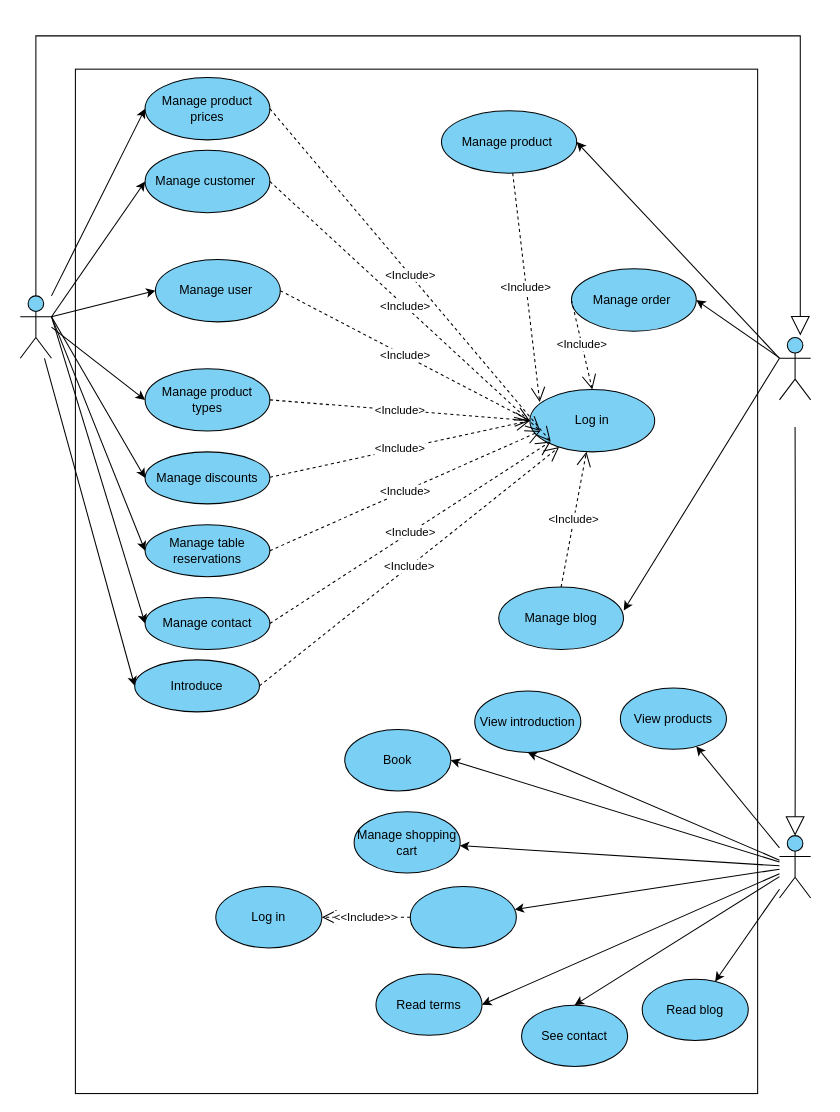
Some shapes in this 840 by 1112 pixel diagram are drawn without their labels. The shapes that lost their labels are listed below. From the top down, each one's box as (x1, y1, x2, y2) in pixels, then its label:
(19, 295, 51, 358): Admin
(778, 336, 811, 400): Staff
(778, 835, 811, 898): Customer
(409, 886, 516, 948): Order
